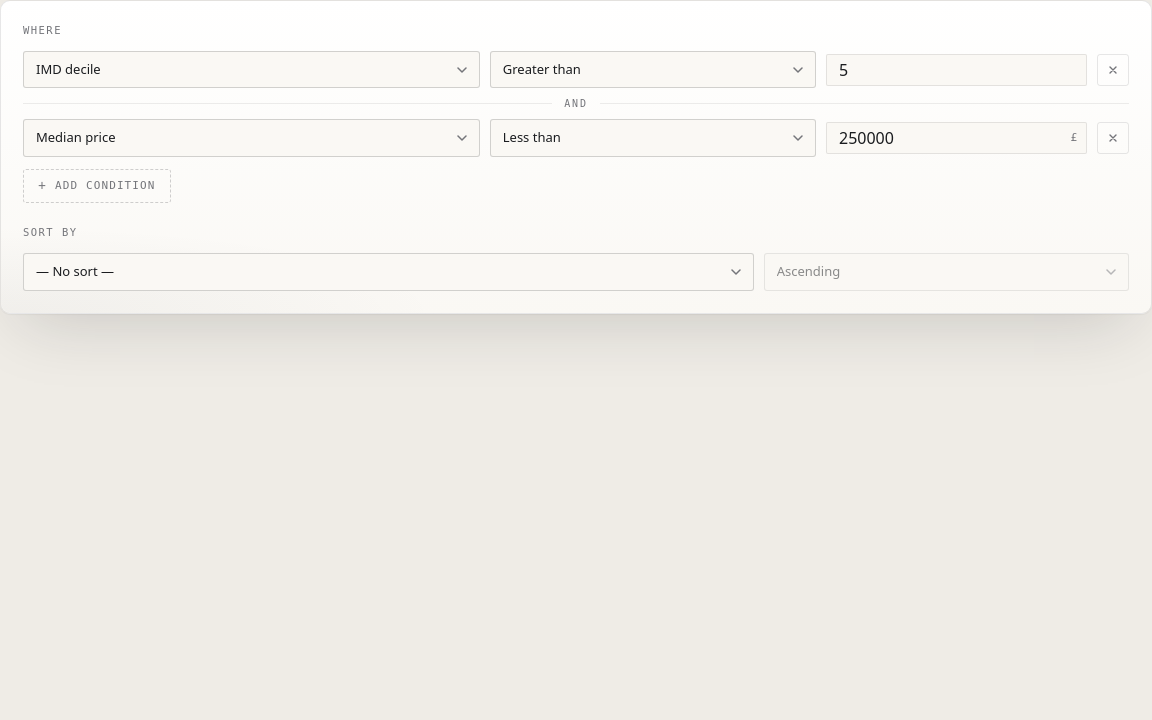
it: <FilterBuilder> (AR-244) › offers sort options drawn from clauses present in value (ADR 0019)
Step 1. Click the button with aria-label "Sort signal" → point(75, 271), box [23,253,754,290]
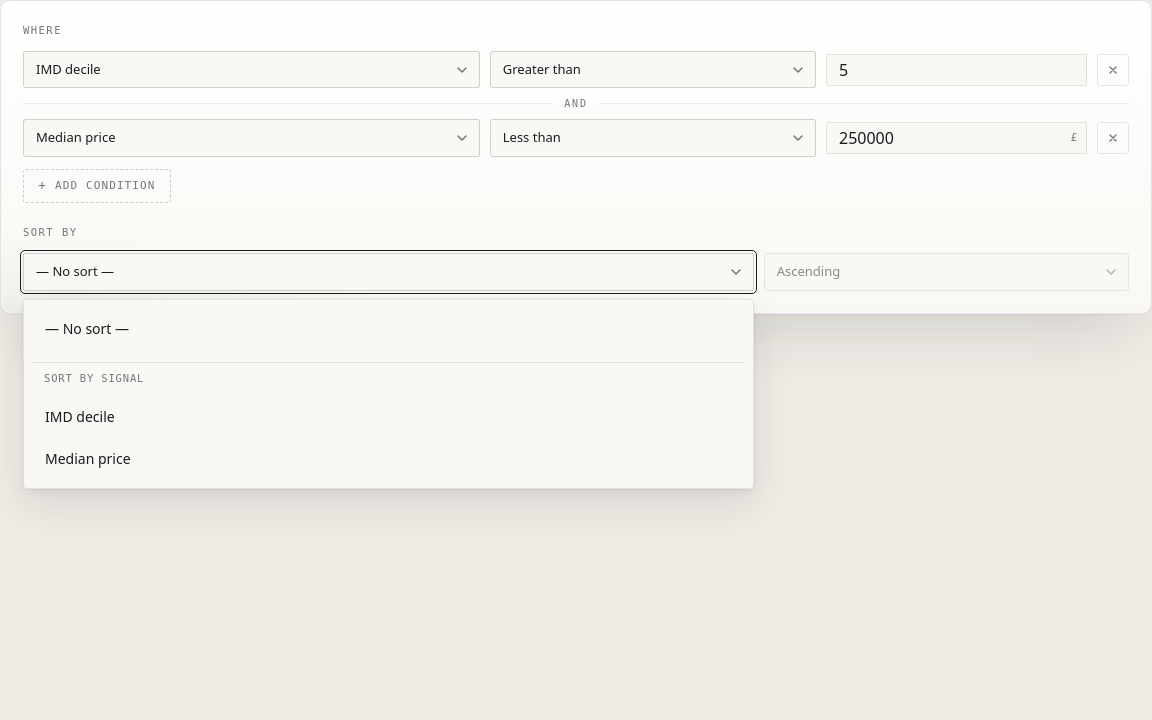
Now the menu item "IMD decile" is shown, box [32,396,745,437]
Now the menu item "Median price" is shown, box [32,438,745,480]
Now the menu item "— No sort —" is shown, box [32,308,745,349]
